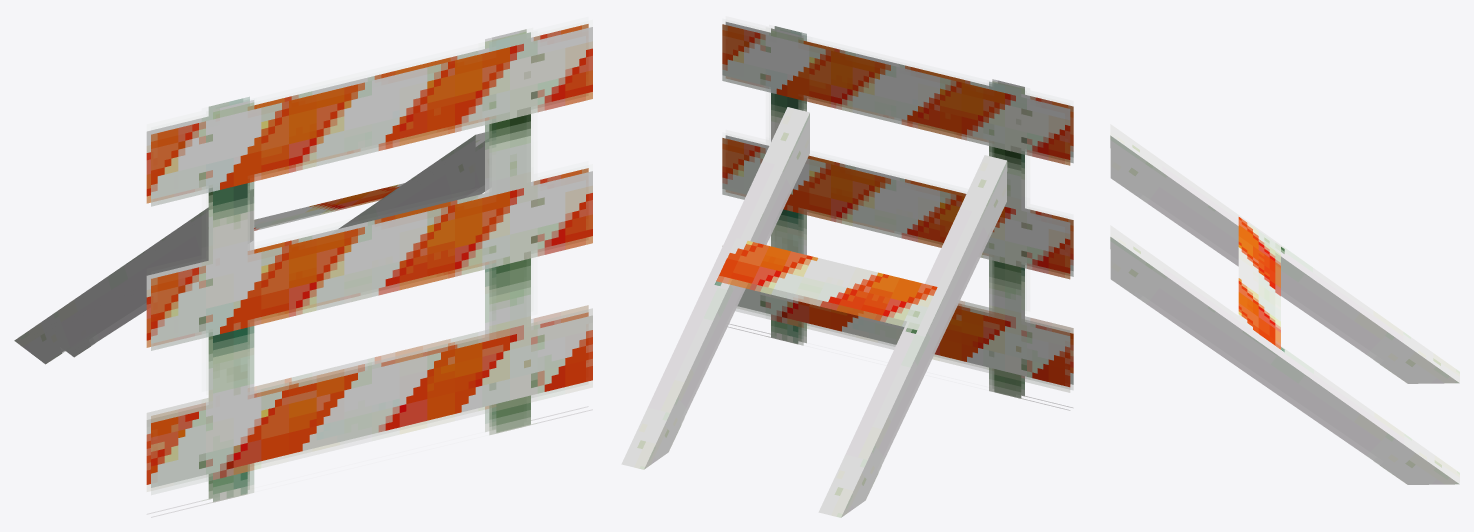
File: Environment - Prop - CONSTBAR - PMCONSTBAR.glb
3 renders of one model, left to right at view 1: azimuth 30°, elevation 25°; view 2: azimuth 150°, elevation 25°; view 3: azimuth 270°, elevation 25°, orthographic. The views are drawn at different scales.
Visible parts, largest first — view 1: PMCONSTBAR; view 2: PMCONSTBAR; view 3: PMCONSTBAR.
Part boxes in pixels (bbox=[...]): PMCONSTBAR: bbox=[14, 23, 592, 517]; PMCONSTBAR: bbox=[621, 21, 1073, 517]; PMCONSTBAR: bbox=[1110, 124, 1459, 484].
Bounding box in the file's own units: 8.36 × 7.12 × 7.08.
Materials: 1 (1 with a texture image).
